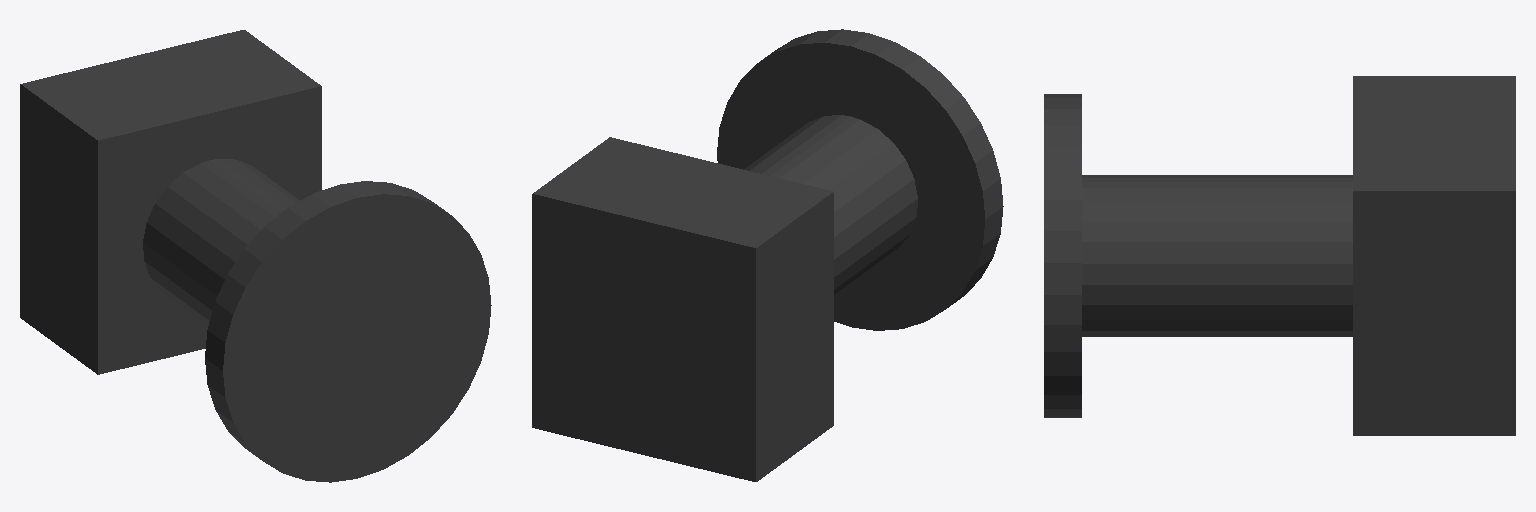
URDF robot description (universal_robot):
<?xml version="1.0" ?>
<!--FOR GRIPPER, THERE IS NO LINK INERTIA DEFINED HERE-->
<robot name="universal_robot">

  <link name="base_link">
    <visual>
      <geometry>
        <mesh filename="../meshes/ur5/visual/base.obj"/>
      </geometry>
      <material name="LightGrey">
        <color rgba="0.7 0.7 0.7 1.0"/>
      </material>
    </visual>
    <collision>
      <geometry>
        <mesh filename="../meshes/ur5/collision/base.stl"/>
      </geometry>
    </collision>
    <inertial>
      <mass value="4.0"/>
      <origin rpy="0 0 0" xyz="0.0 0.0 0.0"/>
      <inertia ixx="0.00443333156" ixy="0.0" ixz="0.0" iyy="0.00443333156" iyz="0.0" izz="0.0072"/>
    </inertial>
  </link>

  <joint name="shoulder_pan_joint" type="revolute">
    <parent link="base_link"/>
    <child link="shoulder_link"/>
    <origin rpy="0.0 0.0 0.0" xyz="0.0 0.0 0.089159"/>
    <axis xyz="0 0 1"/>
    <limit effort="150.0" lower="-6.28318530718" upper="6.28318530718" velocity="3.15"/>
    <dynamics damping="0.0" friction="0.0"/>
  </joint>
  
  <link name="shoulder_link">
    <visual>
      <geometry>
        <mesh filename="../meshes/ur5/visual/shoulder.obj"/>
      </geometry>
      <material name="LightGrey">
        <color rgba="0.7 0.7 0.7 1.0"/>
      </material>
    </visual>
    <collision>
      <geometry>
        <mesh filename="../meshes/ur5/collision/shoulder.stl"/>
      </geometry>
    </collision>
    <inertial>
      <mass value="3.7"/>
      <origin rpy="0 0 0" xyz="0.0 0.0 0.0"/>
      <inertia ixx="0.010267495893" ixy="0.0" ixz="0.0" iyy="0.010267495893" iyz="0.0" izz="0.00666"/>
    </inertial>
  </link>

  <joint name="shoulder_lift_joint" type="revolute">
    <parent link="shoulder_link"/>
    <child link="upper_arm_link"/>
    <origin rpy="0.0 1.57079632679 0.0" xyz="0.0 0.13585 0.0"/>
    <axis xyz="0 1 0"/>
    <limit effort="150.0" lower="-6.28318530718" upper="6.28318530718" velocity="3.15"/>
    <dynamics damping="0.0" friction="0.0"/>
  </joint>

  <link name="upper_arm_link">
    <visual>
      <geometry>
        <mesh filename="../meshes/ur5/visual/upperarm.obj"/>
      </geometry>
      <material name="LightGrey">
        <color rgba="0.7 0.7 0.7 1.0"/>
      </material>
    </visual>
    <collision>
      <geometry>
        <mesh filename="../meshes/ur5/collision/upperarm.stl"/>
      </geometry>
    </collision>
    <inertial>
      <mass value="8.393"/>
      <origin rpy="0 0 0" xyz="0.0 0.0 0.28"/>
      <inertia ixx="0.22689067591" ixy="0.0" ixz="0.0" iyy="0.22689067591" iyz="0.0" izz="0.0151074"/>
    </inertial>
  </link>

  <joint name="elbow_joint" type="revolute">
    <parent link="upper_arm_link"/>
    <child link="forearm_link"/>
    <origin rpy="0.0 0.0 0.0" xyz="0.0 -0.1197 0.425"/>
    <axis xyz="0 1 0"/>
    <limit effort="150.0" lower="-3.14159265359" upper="3.14159265359" velocity="3.15"/>
    <dynamics damping="0.0" friction="0.0"/>
  </joint>

  <link name="forearm_link">
    <visual>
      <geometry>
        <mesh filename="../meshes/ur5/visual/forearm.obj"/>
      </geometry>
      <material name="LightGrey">
        <color rgba="0.7 0.7 0.7 1.0"/>
      </material>
    </visual>
    <collision>
      <geometry>
        <mesh filename="../meshes/ur5/collision/forearm.stl"/>
      </geometry>
    </collision>
    <inertial>
      <mass value="2.275"/>
      <origin rpy="0 0 0" xyz="0.0 0.0 0.25"/>
      <inertia ixx="0.049443313556" ixy="0.0" ixz="0.0" iyy="0.049443313556" iyz="0.0" izz="0.004095"/>
    </inertial>
  </link>

  <joint name="wrist_1_joint" type="revolute">
    <parent link="forearm_link"/>
    <child link="wrist_1_link"/>
    <origin rpy="0.0 1.57079632679 0.0" xyz="0.0 0.0 0.39225"/>
    <axis xyz="0 1 0"/>
    <limit effort="28.0" lower="-6.28318530718" upper="6.28318530718" velocity="3.2"/>
    <dynamics damping="0.0" friction="0.0"/>
  </joint>

  <link name="wrist_1_link">
    <visual>
      <geometry>
        <mesh filename="../meshes/ur5/visual/wrist1.obj"/>
      </geometry>
      <material name="LightGrey">
        <color rgba="0.7 0.7 0.7 1.0"/>
      </material>
    </visual>
    <collision>
      <geometry>
        <mesh filename="../meshes/ur5/collision/wrist1.stl"/>
      </geometry>
    </collision>
    <inertial>
      <mass value="1.219"/>
      <origin rpy="0 0 0" xyz="0.0 0.0 0.0"/>
      <inertia ixx="0.111172755531" ixy="0.0" ixz="0.0" iyy="0.111172755531" iyz="0.0" izz="0.21942"/>
    </inertial>
  </link>

  <joint name="wrist_2_joint" type="revolute">
    <parent link="wrist_1_link"/>
    <child link="wrist_2_link"/>
    <origin rpy="0.0 0.0 0.0" xyz="0.0 0.093 0.0"/>
    <axis xyz="0 0 1"/>
    <limit effort="28.0" lower="-6.28318530718" upper="6.28318530718" velocity="3.2"/>
    <dynamics damping="0.0" friction="0.0"/>
  </joint>

  <link name="wrist_2_link">
    <visual>
      <geometry>
        <mesh filename="../meshes/ur5/visual/wrist2.obj"/>
      </geometry>
      <material name="LightGrey">
        <color rgba="0.7 0.7 0.7 1.0"/>
      </material>
    </visual>
    <collision>
      <geometry>
        <mesh filename="../meshes/ur5/collision/wrist2.stl"/>
      </geometry>
    </collision>
    <inertial>
      <mass value="1.219"/>
      <origin rpy="0 0 0" xyz="0.0 0.0 0.0"/>
      <inertia ixx="0.111172755531" ixy="0.0" ixz="0.0" iyy="0.111172755531" iyz="0.0" izz="0.21942"/>
    </inertial>
  </link>

  <joint name="wrist_3_joint" type="revolute">
    <parent link="wrist_2_link"/>
    <child link="wrist_3_link"/>
    <origin rpy="0.0 0.0 0.0" xyz="0.0 0.0 0.09465"/>
    <axis xyz="0 1 0"/>
    <limit effort="28.0" lower="-6.28318530718" upper="6.28318530718" velocity="3.2"/>
    <dynamics damping="0.0" friction="0.0"/>
  </joint>

  <link name="wrist_3_link">
    <visual>
      <geometry>
        <mesh filename="../meshes/ur5/visual/wrist3.obj"/>
      </geometry>
      <material name="LightGrey">
        <color rgba="0.7 0.7 0.7 1.0"/>
      </material>
    </visual>
    <collision>
      <geometry>
        <mesh filename="../meshes/ur5/collision/wrist3.stl"/>
      </geometry>
    </collision>
    <inertial>
      <mass value="0.1879"/>
      <origin rpy="0 0 0" xyz="0.0 0.0 0.0"/>
      <inertia ixx="0.0171364731454" ixy="0.0" ixz="0.0" iyy="0.0171364731454" iyz="0.0" izz="0.033822"/>
    </inertial>
  </link>

  <joint name="ee_fixed_joint" type="fixed">
    <parent link="wrist_3_link"/>
    <child link="peg"/>
    <origin rpy="0.0 0.0 1.57079632679" xyz="0.0 0.0823 0.0"/>
  </joint>

  <!-- <link name="ee_link">
    <collision>
      <geometry>
        <box size="0.01 0.01 0.01"/>
      </geometry>
      <origin rpy="0 0 0" xyz="-0.01 0 0"/>
    </collision>
  </link> -->

  <link name="peg">
    <visual>
      <origin rpy="0 1.57079632679 0" xyz="0 0 0"/>
      <geometry>
        <mesh filename="./peg_hole_gazebo/peg/meshes/peg.STL"/>
      </geometry>
      <material name="stainless">
        <color rgba="0.3 0.3 0.3 1.0"/>
      </material>      
    </visual>
    <collision>
      <geometry>
        <mesh filename="./peg_hole_gazebo/peg/meshes/peg.STL"/>
      </geometry>
    </collision>
    <inertial>
      <mass value="1.0"/>
      <origin rpy="0 0 0" xyz="0.0 0.0 0.0"/>
      <inertia ixx="0.005" iyy="0.005" izz="0.0072"/>
    </inertial>
  </link>

<!--################################################
  ########          connect model                #####
  ####################################################-->
  <link name="world"/>
  <joint name="world_arm_joint" type="fixed">
    <parent link="world"/>
    <child link="base_link"/>
    <origin rpy="0.0 0.0 0" xyz="0 0 0.8"/>
  </joint>

</robot>

--- Render facts (derived) ---
3 views of the same robot in one strip: view 1: azimuth 30°, elevation 25°; view 2: azimuth 150°, elevation 25°; view 3: azimuth 270°, elevation 25° (orthographic).
Model universal_robot with 9 links and 8 joints (6 revolute, 2 fixed), rooted at world, posed all joints at 0.
Links seen in each view (by area): view 1: peg; view 2: peg; view 3: peg.
Boxes of the visible links, left/top/right/bottom form: peg: left=20, top=30, right=491, bottom=482; peg: left=532, top=29, right=1003, bottom=481; peg: left=1044, top=76, right=1515, bottom=435.
Size in the robot's own frame: 0.06 by 0.087 by 0.06 metres.
1 mesh visuals loaded from 8 distinct referenced files (1 binary STL); not drawn: 7 (reference not matched to a file when rendering).